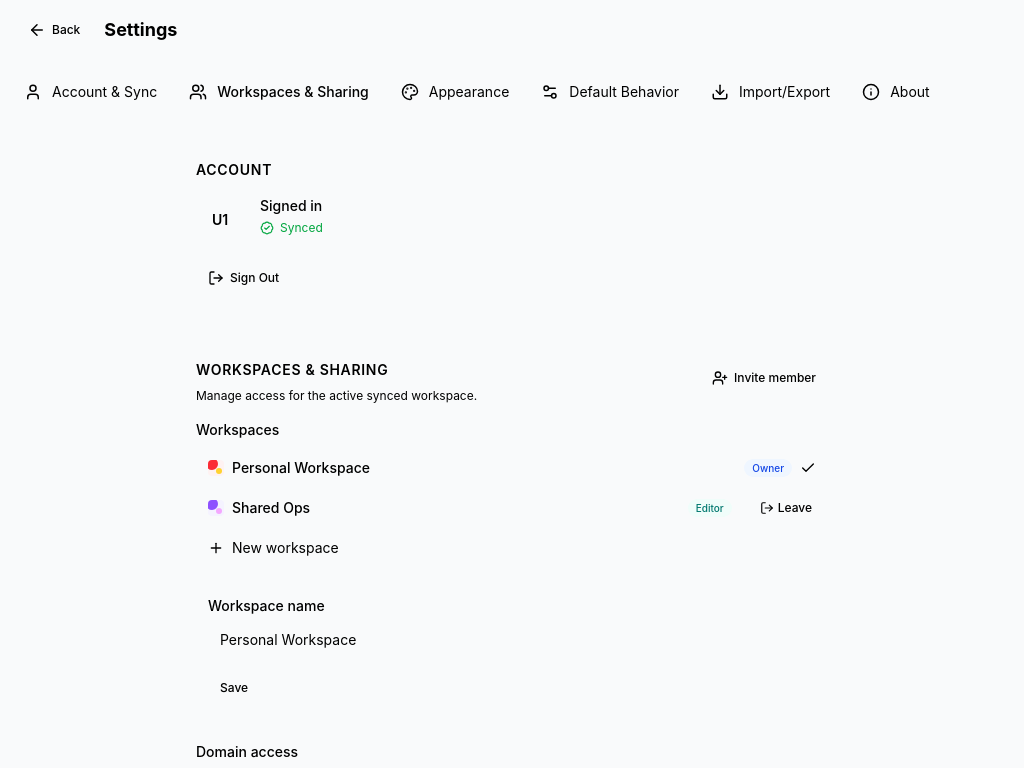
Test: SettingsScreen › allows members to leave a shared workspace from sharing settings
The width and height of the screenshot is (1024, 768).
Click the button "Leave". click: (786, 508)
box: [752,496,820,520]
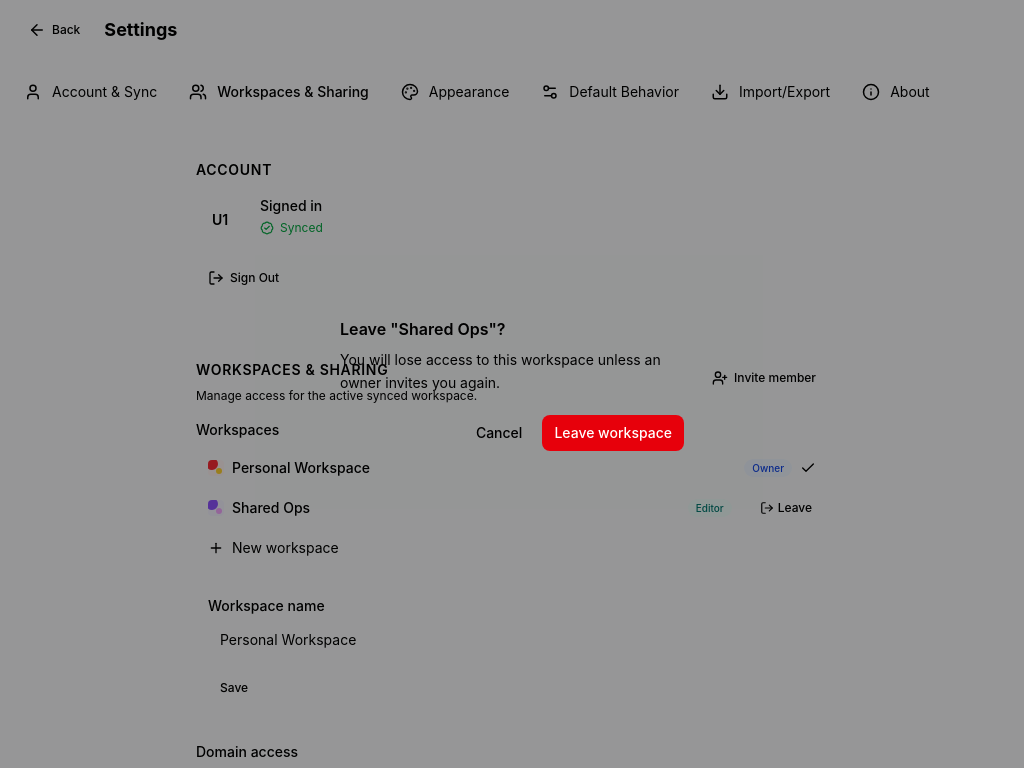
expect the dialog shows "Leave \"Shared Ops\"?": met, box [340,319,506,339]
Click the button "Leave workspace". click: (613, 433)
box: [542,415,684,451]
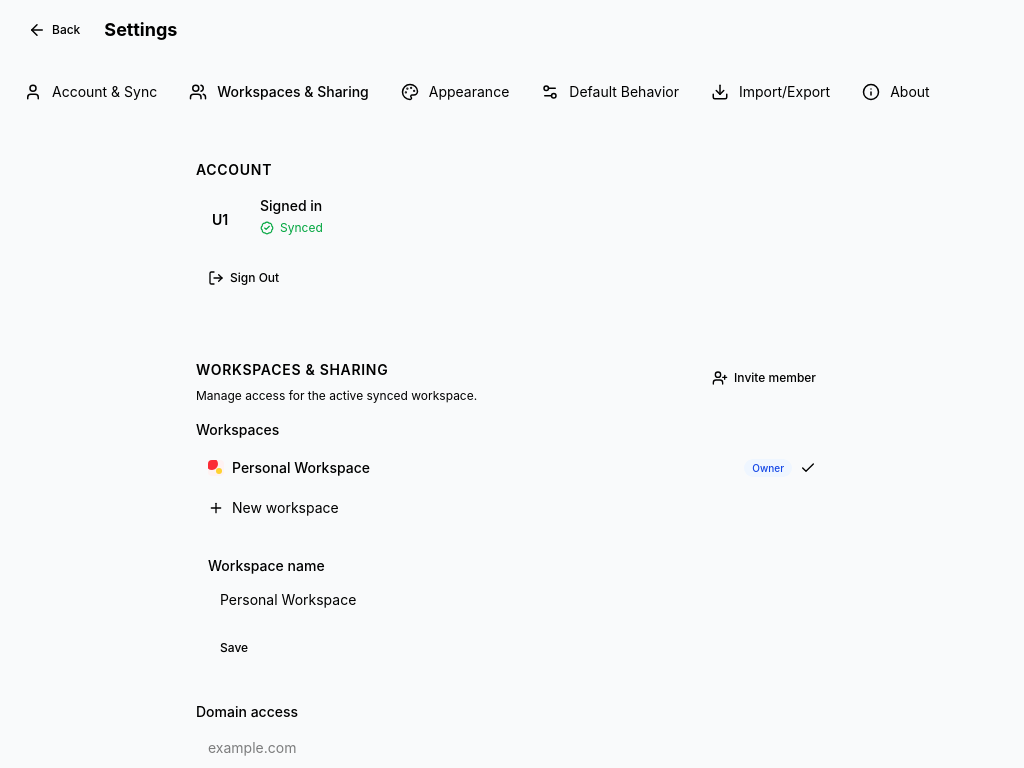
expect the button "Shared Ops" is gone: met
